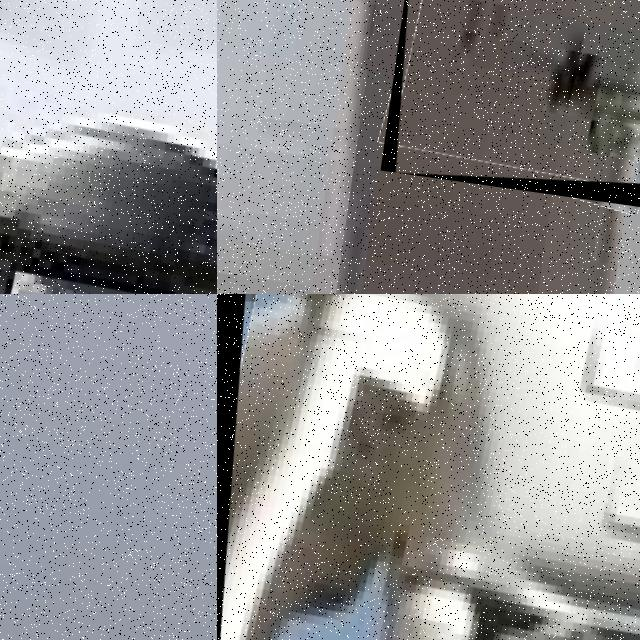drone: (217, 294, 640, 640), (0, 0, 217, 294), (380, 0, 640, 209)
